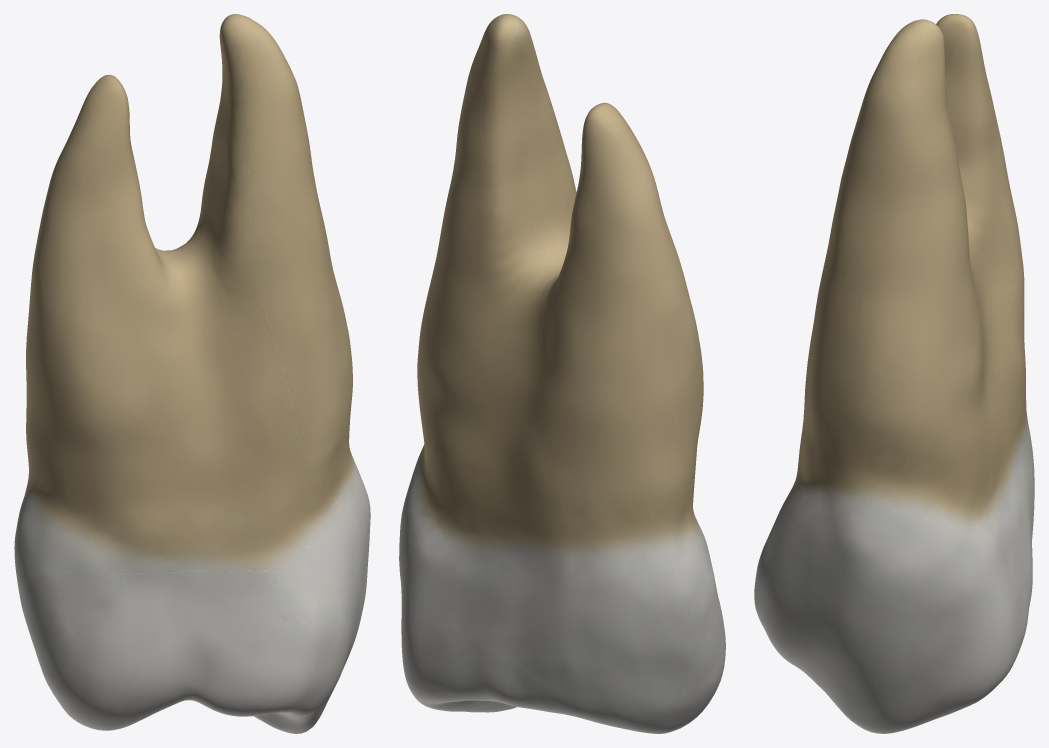
The model's file is maxillary_first_premolar.glb.
3 renders of one model, left to right at view 1: azimuth 30°, elevation 25°; view 2: azimuth 150°, elevation 25°; view 3: azimuth 270°, elevation 25°, orthographic. The views are drawn at different scales.
Parts seen in each view (by area): view 1: Object_3; view 2: Object_3; view 3: Object_3.
Part boxes in pixels (<box>): Object_3: <box>14,14,370,733</box>; Object_3: <box>399,14,725,733</box>; Object_3: <box>754,14,1034,733</box>.
Bounding box in the file's own units: 0.3954 × 0.8624 × 0.316.
1 material, 1 textured.
